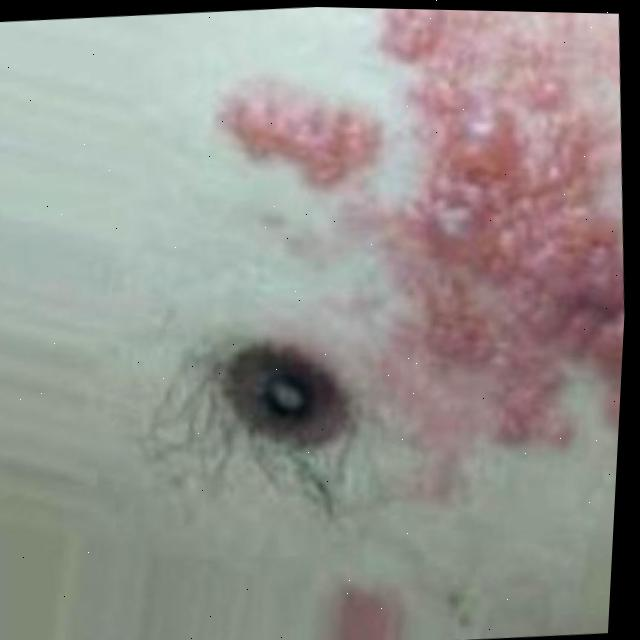Shingles: (349, 8, 640, 435), (222, 75, 364, 195)
